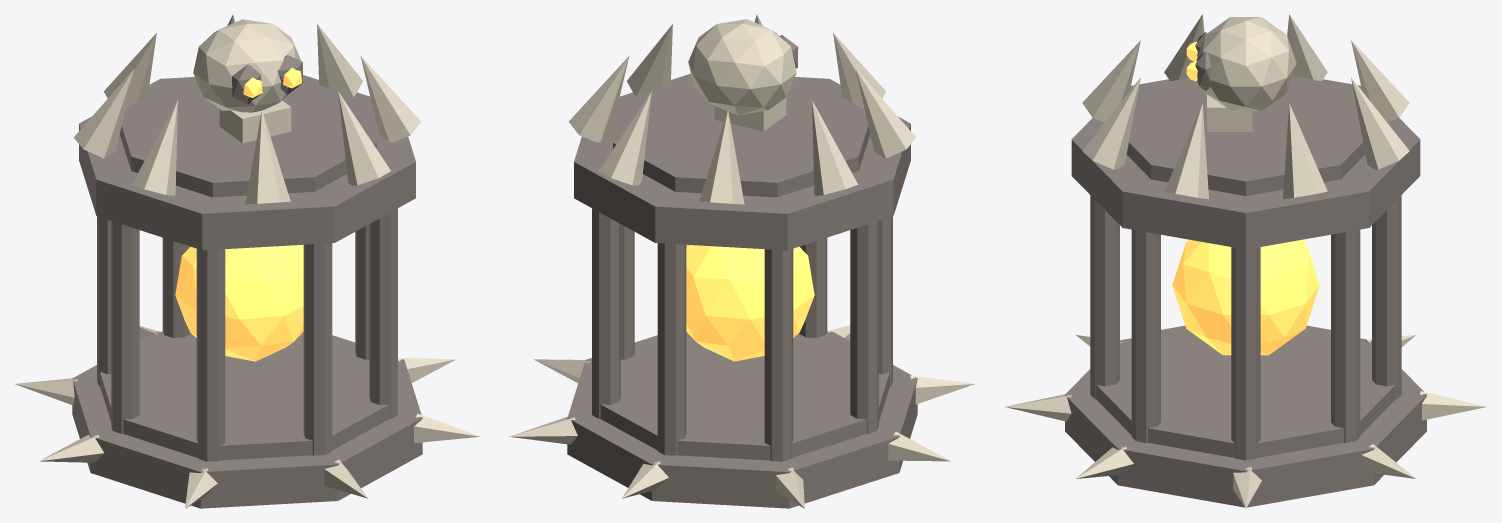
The model's file is spawner_cage.glb.
3 renders of one model, left to right at view 1: azimuth 30°, elevation 25°; view 2: azimuth 150°, elevation 25°; view 3: azimuth 270°, elevation 25°, orthographic.
Parts seen in each view (by area): view 1: SM_SpawnerCage_Iron, SM_SpawnerCage_Bone, SM_SpawnerCage_Core; view 2: SM_SpawnerCage_Iron, SM_SpawnerCage_Bone, SM_SpawnerCage_Core; view 3: SM_SpawnerCage_Iron, SM_SpawnerCage_Bone, SM_SpawnerCage_Core.
Boxes of the visible parts, box(x1,y1,x2,y2) form: SM_SpawnerCage_Iron: box(72, 55, 422, 508); SM_SpawnerCage_Bone: box(15, 14, 479, 508); SM_SpawnerCage_Core: box(175, 68, 303, 361); SM_SpawnerCage_Iron: box(567, 35, 917, 508); SM_SpawnerCage_Bone: box(509, 14, 974, 508); SM_SpawnerCage_Core: box(686, 244, 814, 361); SM_SpawnerCage_Iron: box(1065, 32, 1426, 507); SM_SpawnerCage_Bone: box(1005, 14, 1486, 508); SM_SpawnerCage_Core: box(1172, 41, 1319, 355).
Size of the model in its own units: 3.6 by 3.38 by 3.6.
